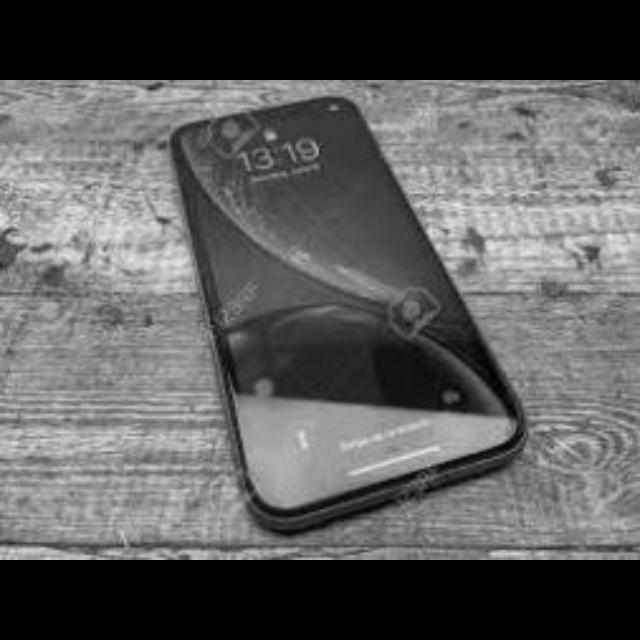fake: (158, 38, 532, 528)
